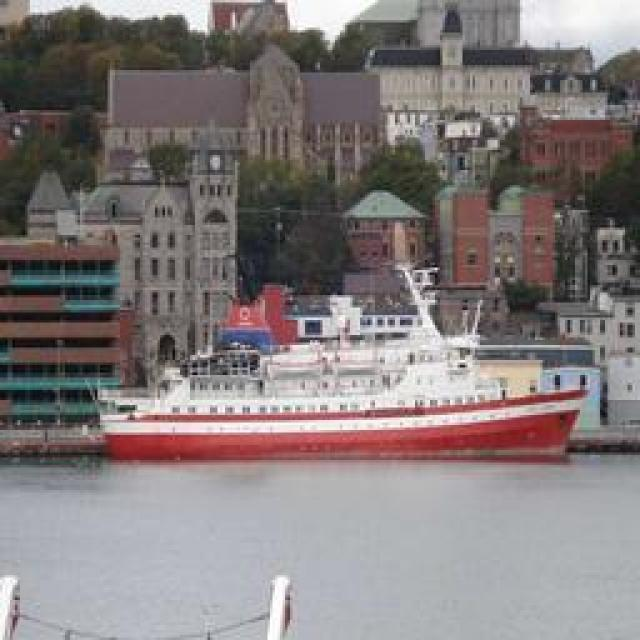ship2: (96, 260, 591, 467)
